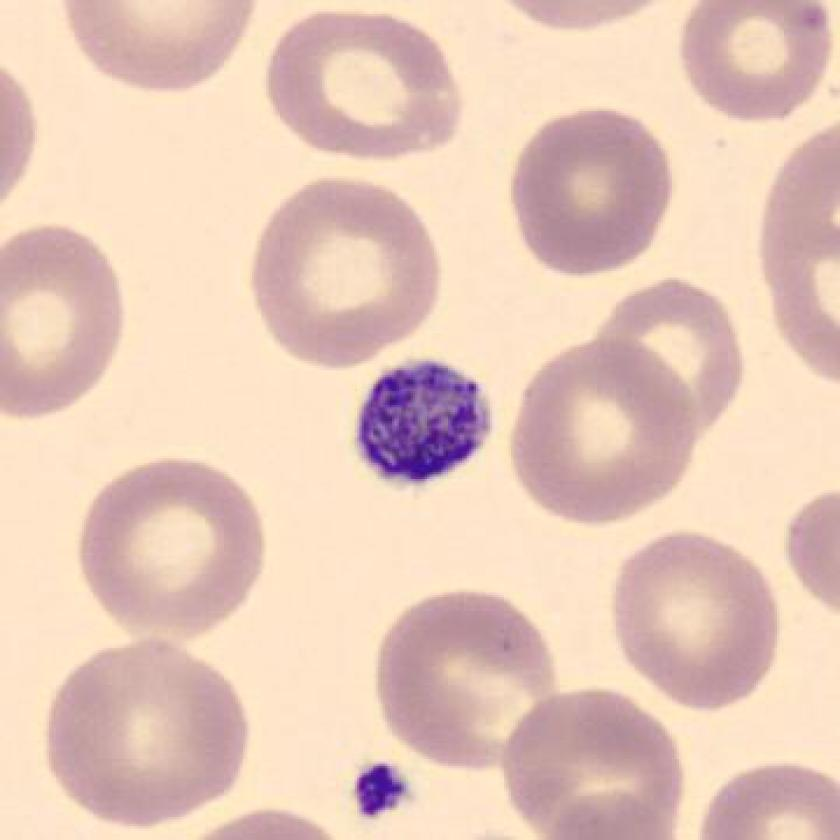platelets: (349, 350, 500, 494), (342, 755, 419, 827)
